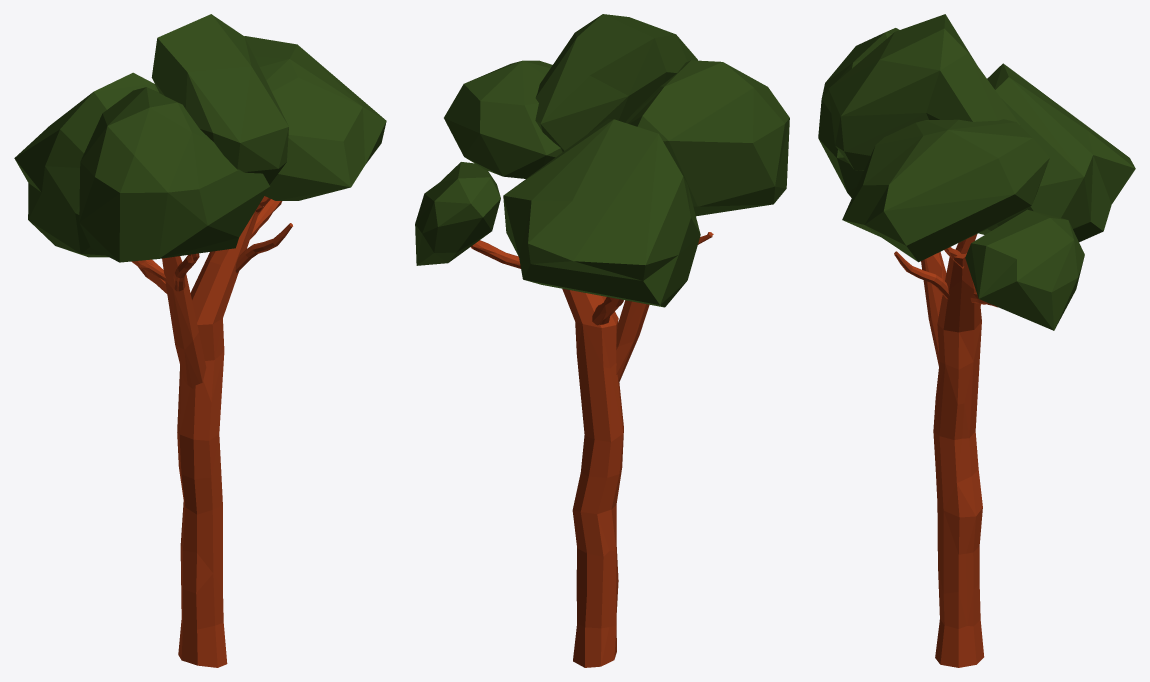
Rendered from tree.obj.
The picture shows the model from 3 angles, left to right: view 1: azimuth 30°, elevation 25°; view 2: azimuth 150°, elevation 25°; view 3: azimuth 270°, elevation 25°; orthographic projection. The views are drawn at different scales.
Parts seen in each view (by area): view 1: Cylinder.001; view 2: Cylinder.001; view 3: Cylinder.001.
Part boxes in pixels (x1,y1,x2,y2): Cylinder.001: [14, 14, 386, 667]; Cylinder.001: [415, 14, 789, 667]; Cylinder.001: [818, 14, 1135, 667].
Size of the model in its own units: 16.07 by 32.88 by 15.03.
